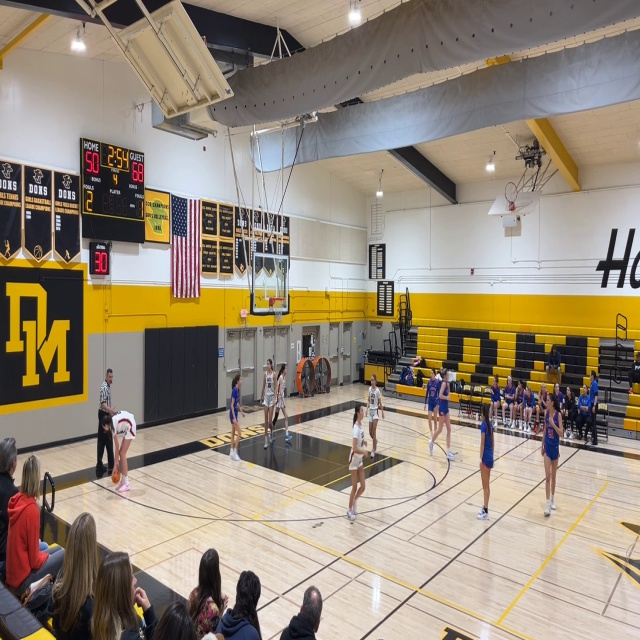Basketball: (111, 472, 120, 484)
